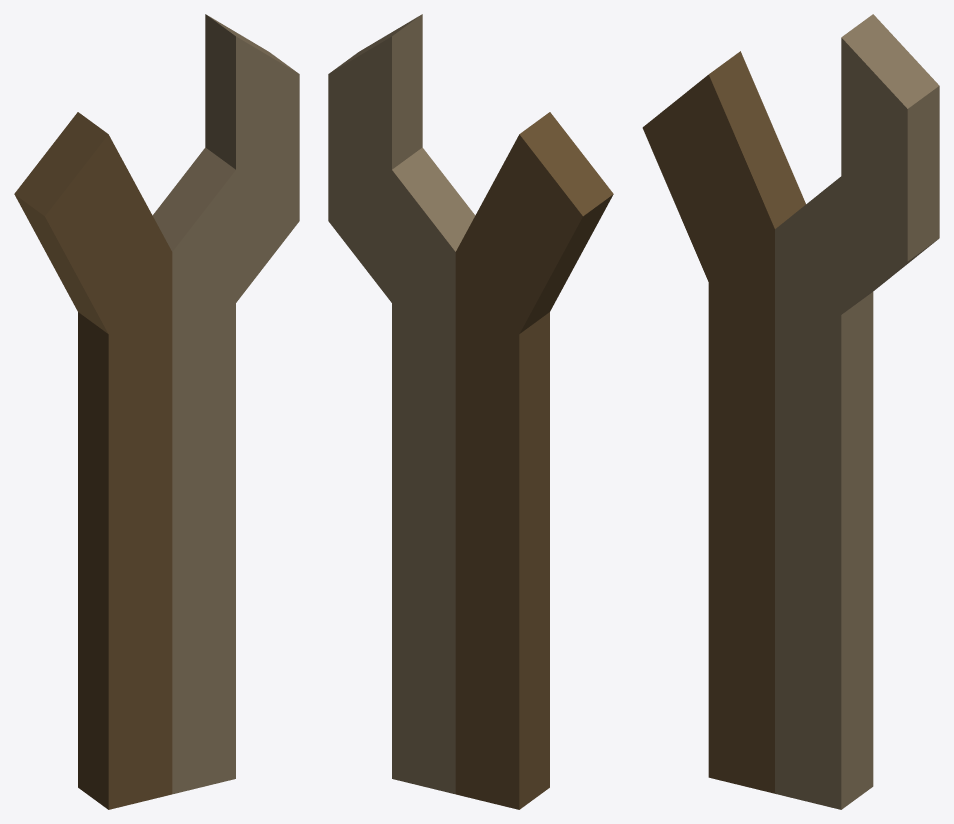
File: tree-stock-mid.fbx
3 renders of one model, left to right at view 1: azimuth 30°, elevation 25°; view 2: azimuth 150°, elevation 25°; view 3: azimuth 330°, elevation 25°, orthographic. The views are drawn at different scales.
Parts seen in each view (by area): view 1: Plane; view 2: Plane; view 3: Plane.
Part boxes in pixels (<box>): Plane: <box>14,14,299,809</box>; Plane: <box>328,14,613,809</box>; Plane: <box>642,14,939,809</box>.
Size of the model in its own units: 12000 by 33400 by 2500.
